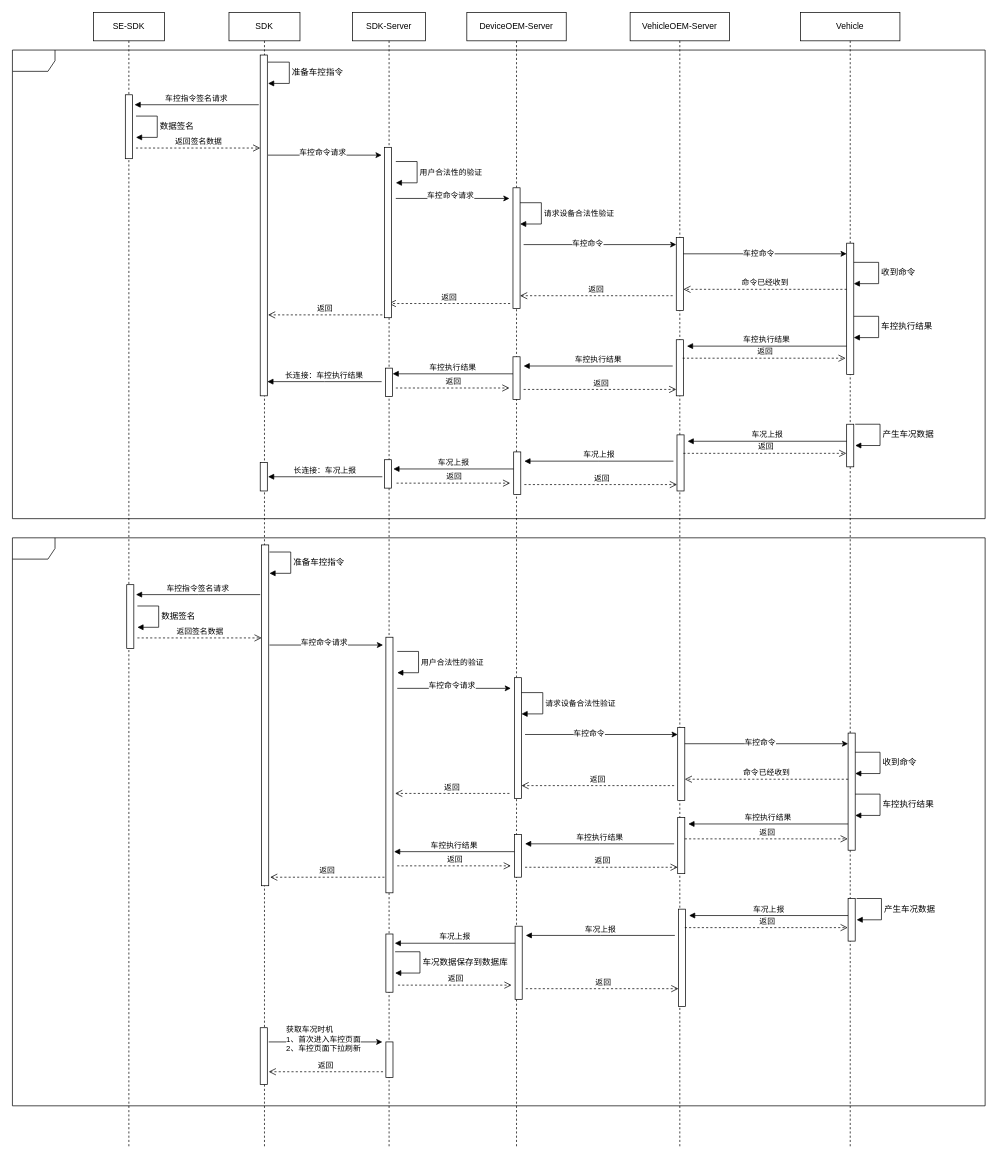
The diagram is 998 pixels wide and 1161 high, and some of its shapes have lost their labels. The shapes that lost their labels are listed below. From the top down, each one's box as (x1, y1, x2, y2) in pixels, then its label:
(12, 49, 985, 519): 车控过程1
(12, 537, 985, 1106): 车控过程2 当前实现
